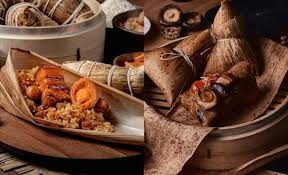zongzi: (17, 65, 113, 131), (179, 61, 258, 126), (145, 29, 211, 104), (204, 0, 258, 74)
